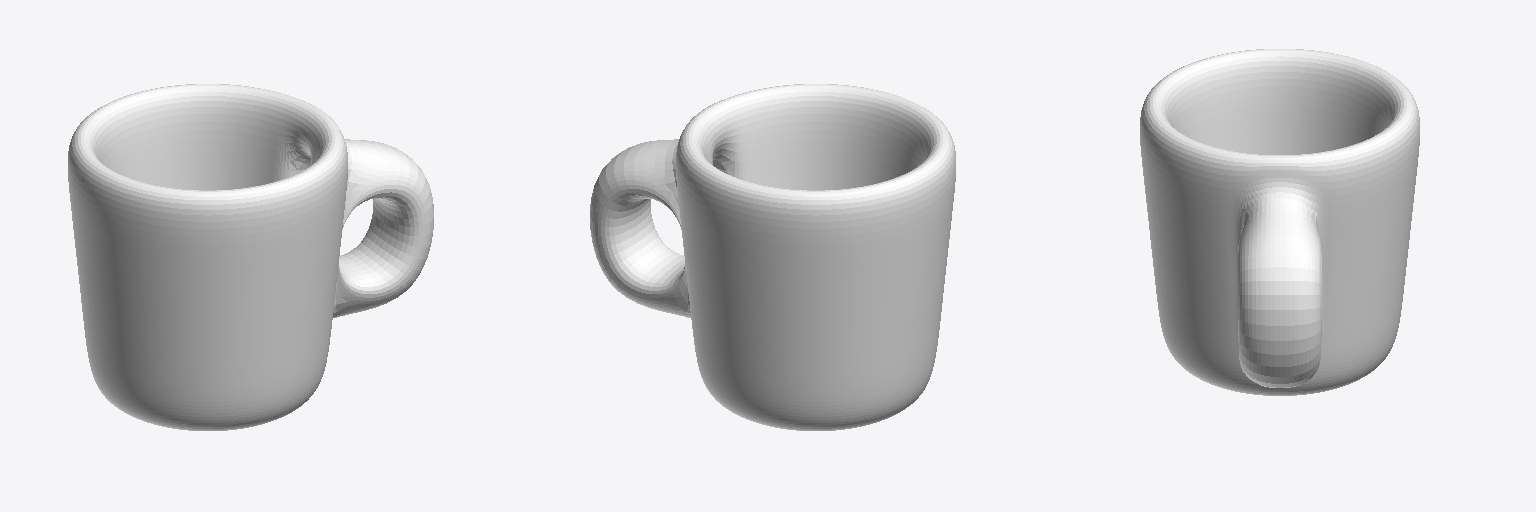
File: colored-cup2.obj
The picture shows the model from 3 angles: view 1: azimuth 30°, elevation 25°; view 2: azimuth 150°, elevation 25°; view 3: azimuth 270°, elevation 25°; orthographic projection.
Visible parts, largest first — view 1: Circle.001; view 2: Circle.001; view 3: Circle.001.
Boxes of the visible parts, <box> form: Circle.001: <box>68,84,433,430</box>; Circle.001: <box>590,84,955,430</box>; Circle.001: <box>1140,49,1419,395</box>.
Bounding box in the file's own units: 0.4573 × 0.3353 × 0.3276.